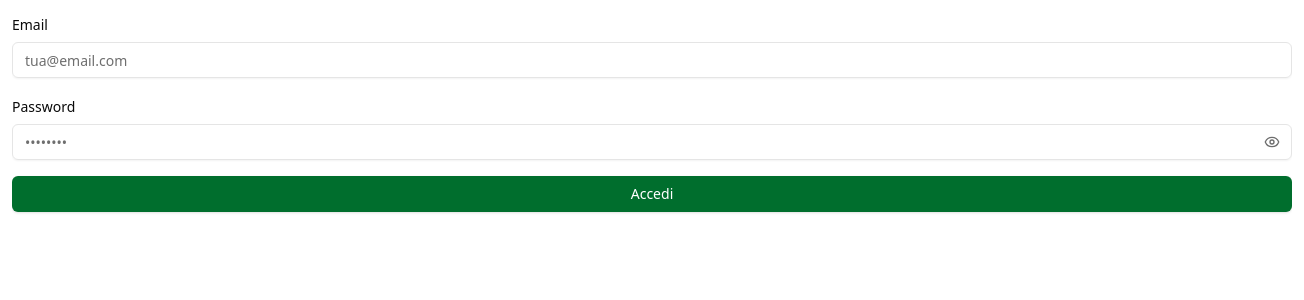
Test case: AuthForm — accessibilità ed errori › mostra un errore inline persistente (role=alert) quando il login fallisce
In the field with placeholder "tua@email.com": (652, 60) 12,42 -> 1292,78, type "mario@example.com"
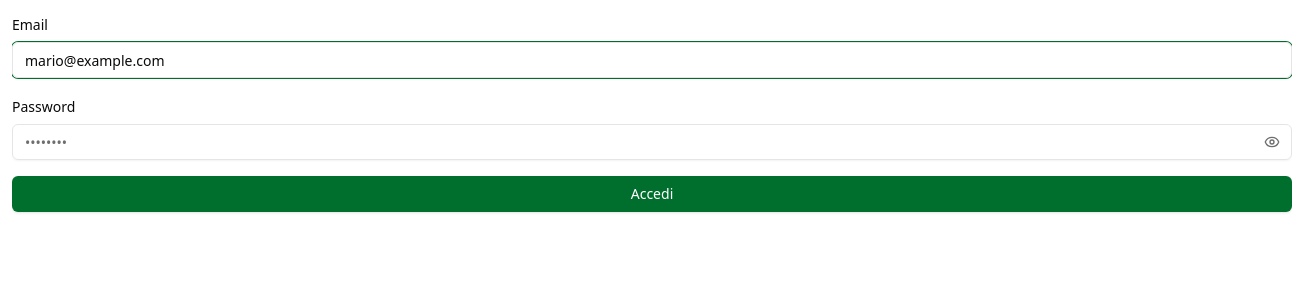
In the password field with placeholder "••••••••": (652, 142) 12,124 -> 1292,160, type "qualsiasi"
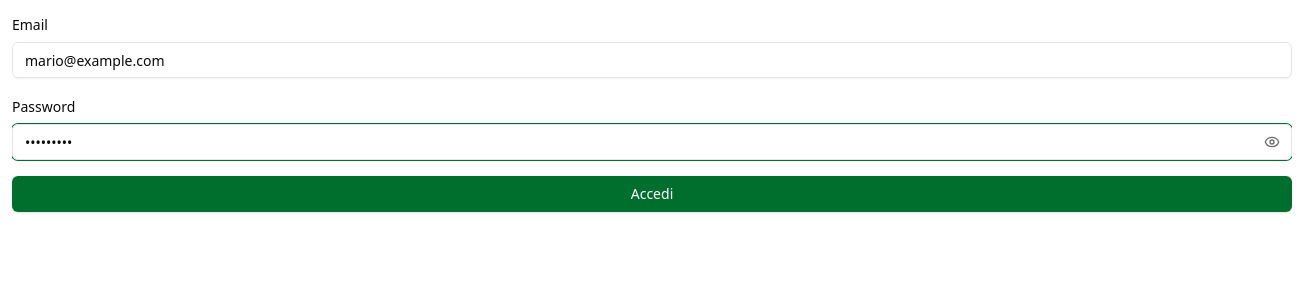
Click the button "Accedi": click(652, 194) 12,176 -> 1292,212
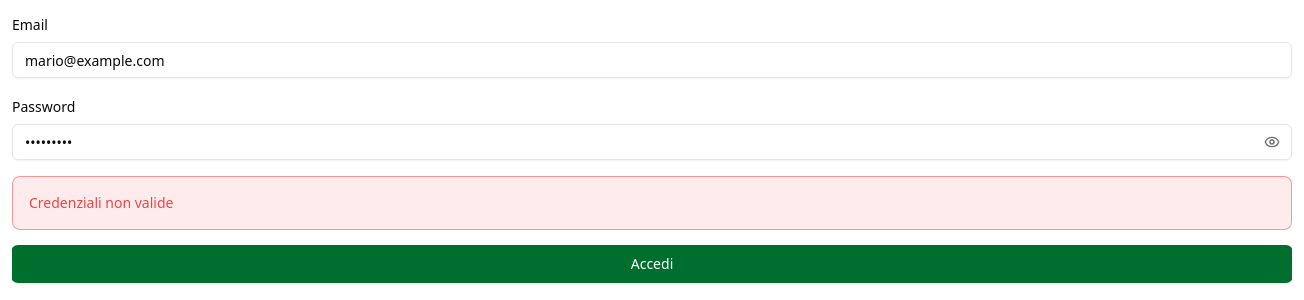
Now the message reads "Credenziali non valide", box 29,193 -> 173,212
